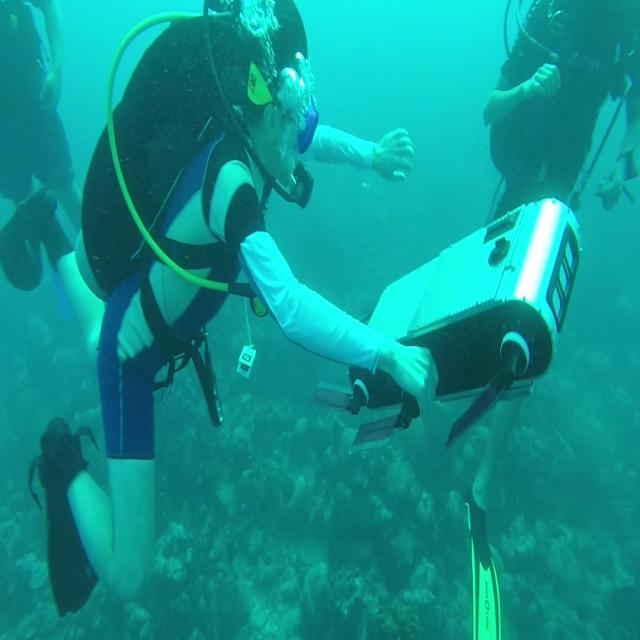human: (28, 51, 440, 617), (482, 0, 638, 223)
